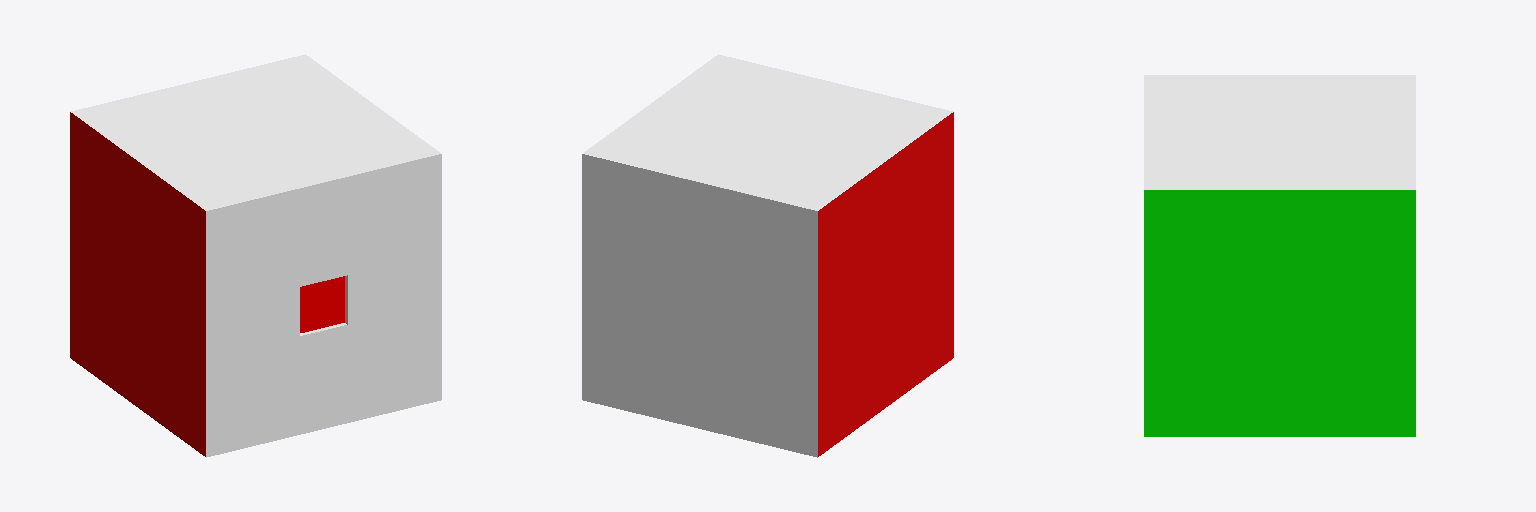
The model's file is cornell_box2.obj.
3 views of the same model, side by side, from view 1: azimuth 30°, elevation 25°; view 2: azimuth 150°, elevation 25°; view 3: azimuth 270°, elevation 25° (orthographic).
Visible parts, largest first — view 1: Box, LeftWall, LightSource; view 2: Box, LeftWall; view 3: RightWall, Box.
Boxes of the visible parts, box(x1,y1,x2,y2) form: Box: box(71, 54, 441, 457); LeftWall: box(70, 112, 205, 456); LightSource: box(300, 276, 344, 332); Box: box(582, 54, 952, 457); LeftWall: box(818, 112, 953, 456); RightWall: box(1144, 190, 1415, 436); Box: box(1144, 75, 1415, 189).
Size of the model in its own units: 500 by 500 by 500.